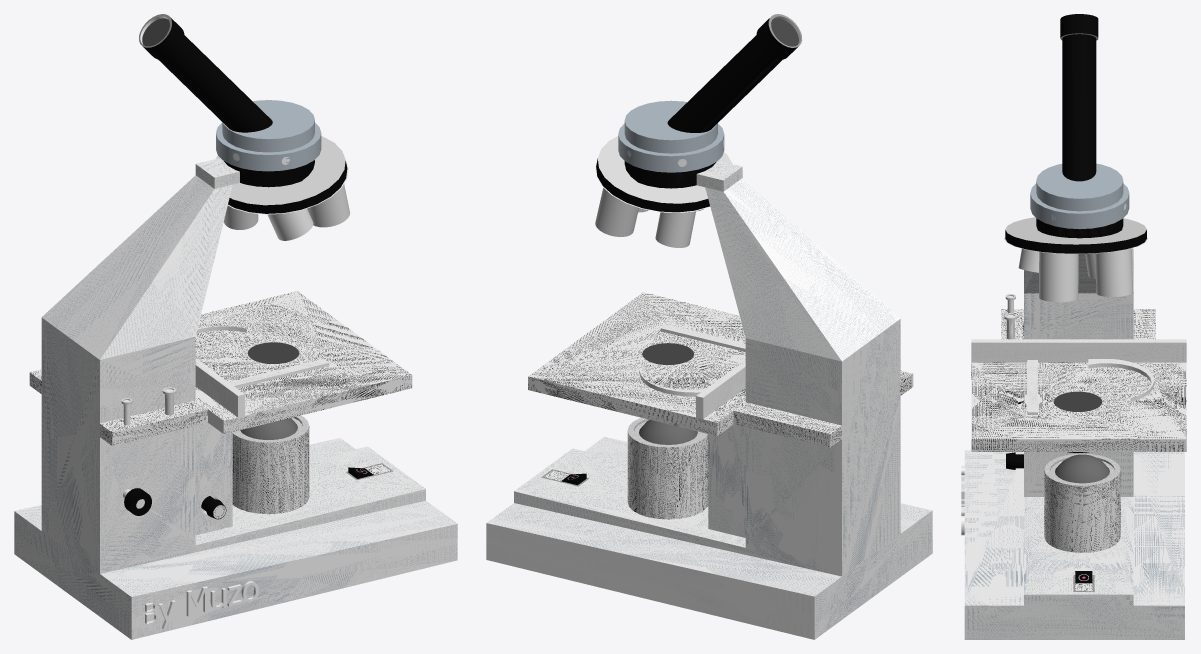
3 renders of one model, left to right at view 1: azimuth 30°, elevation 25°; view 2: azimuth 150°, elevation 25°; view 3: azimuth 270°, elevation 25°, orthographic. The views are drawn at different scales.
Visible parts, largest first — view 1: SketchUp.001, SketchUp.002, SketchUp.005, SketchUp.036, SketchUp.034, SketchUp.049, SketchUp.015, SketchUp.032, SketchUp.033, SketchUp.050, SketchUp.057, SketchUp.058 (+3 smaller); view 2: SketchUp.001, SketchUp.002, SketchUp.048, SketchUp.005, SketchUp.036, SketchUp.034, SketchUp.015, SketchUp.049, SketchUp.032, SketchUp.059, SketchUp.060, SketchUp.033 (+4 smaller); view 3: SketchUp.001, SketchUp.002, SketchUp.015, SketchUp.005, SketchUp.036, SketchUp.034, SketchUp.032, SketchUp.057, SketchUp.059, SketchUp.049, SketchUp.050, SketchUp.004 (+5 smaller).
Boxes of the visible parts, left/top/right/bottom form: SketchUp.001: left=14, top=158, right=457, bottom=639; SketchUp.002: left=29, top=291, right=412, bottom=445; SketchUp.005: left=232, top=426, right=309, bottom=514; SketchUp.036: left=158, top=35, right=272, bottom=132; SketchUp.034: left=222, top=100, right=314, bottom=152; SketchUp.049: left=215, top=136, right=345, bottom=205; SketchUp.015: left=195, top=326, right=329, bottom=416; SketchUp.032: left=216, top=122, right=321, bottom=171; SketchUp.033: left=224, top=160, right=314, bottom=187; SketchUp.050: left=228, top=161, right=347, bottom=213; SketchUp.057: left=307, top=184, right=349, bottom=227; SketchUp.058: left=267, top=208, right=313, bottom=240; SketchUp.001: left=487, top=160, right=932, bottom=639; SketchUp.002: left=528, top=292, right=913, bottom=447; SketchUp.048: left=486, top=523, right=814, bottom=639; SketchUp.005: left=627, top=431, right=708, bottom=519; SketchUp.036: left=667, top=35, right=782, bottom=132; SketchUp.034: left=624, top=100, right=717, bottom=153; SketchUp.015: left=639, top=324, right=745, bottom=418; SketchUp.049: left=598, top=136, right=732, bottom=203; SketchUp.032: left=618, top=123, right=724, bottom=172; SketchUp.059: left=595, top=188, right=638, bottom=236; SketchUp.060: left=655, top=211, right=695, bottom=247; SketchUp.033: left=624, top=161, right=716, bottom=188; SketchUp.001: left=964, top=248, right=1184, bottom=639; SketchUp.002: left=971, top=309, right=1186, bottom=451; SketchUp.015: left=971, top=339, right=1186, bottom=414; SketchUp.005: left=1044, top=470, right=1120, bottom=552; SketchUp.036: left=1062, top=34, right=1096, bottom=181; SketchUp.034: left=1036, top=163, right=1123, bottom=211; SketchUp.032: left=1030, top=183, right=1129, bottom=229; SketchUp.057: left=1039, top=252, right=1078, bottom=302; SketchUp.059: left=1095, top=248, right=1133, bottom=296; SketchUp.049: left=1005, top=217, right=1146, bottom=244; SketchUp.050: left=1005, top=230, right=1146, bottom=253; SketchUp.004: left=1055, top=454, right=1109, bottom=483.
Bounding box in the file's own units: 3.34 × 2.13 × 5.44.
